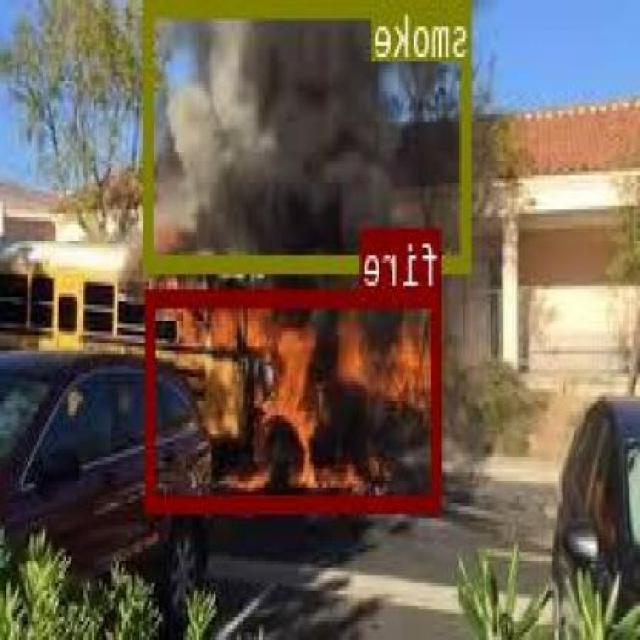Fire: (149, 288, 442, 510)
Smoke: (148, 0, 472, 266)
